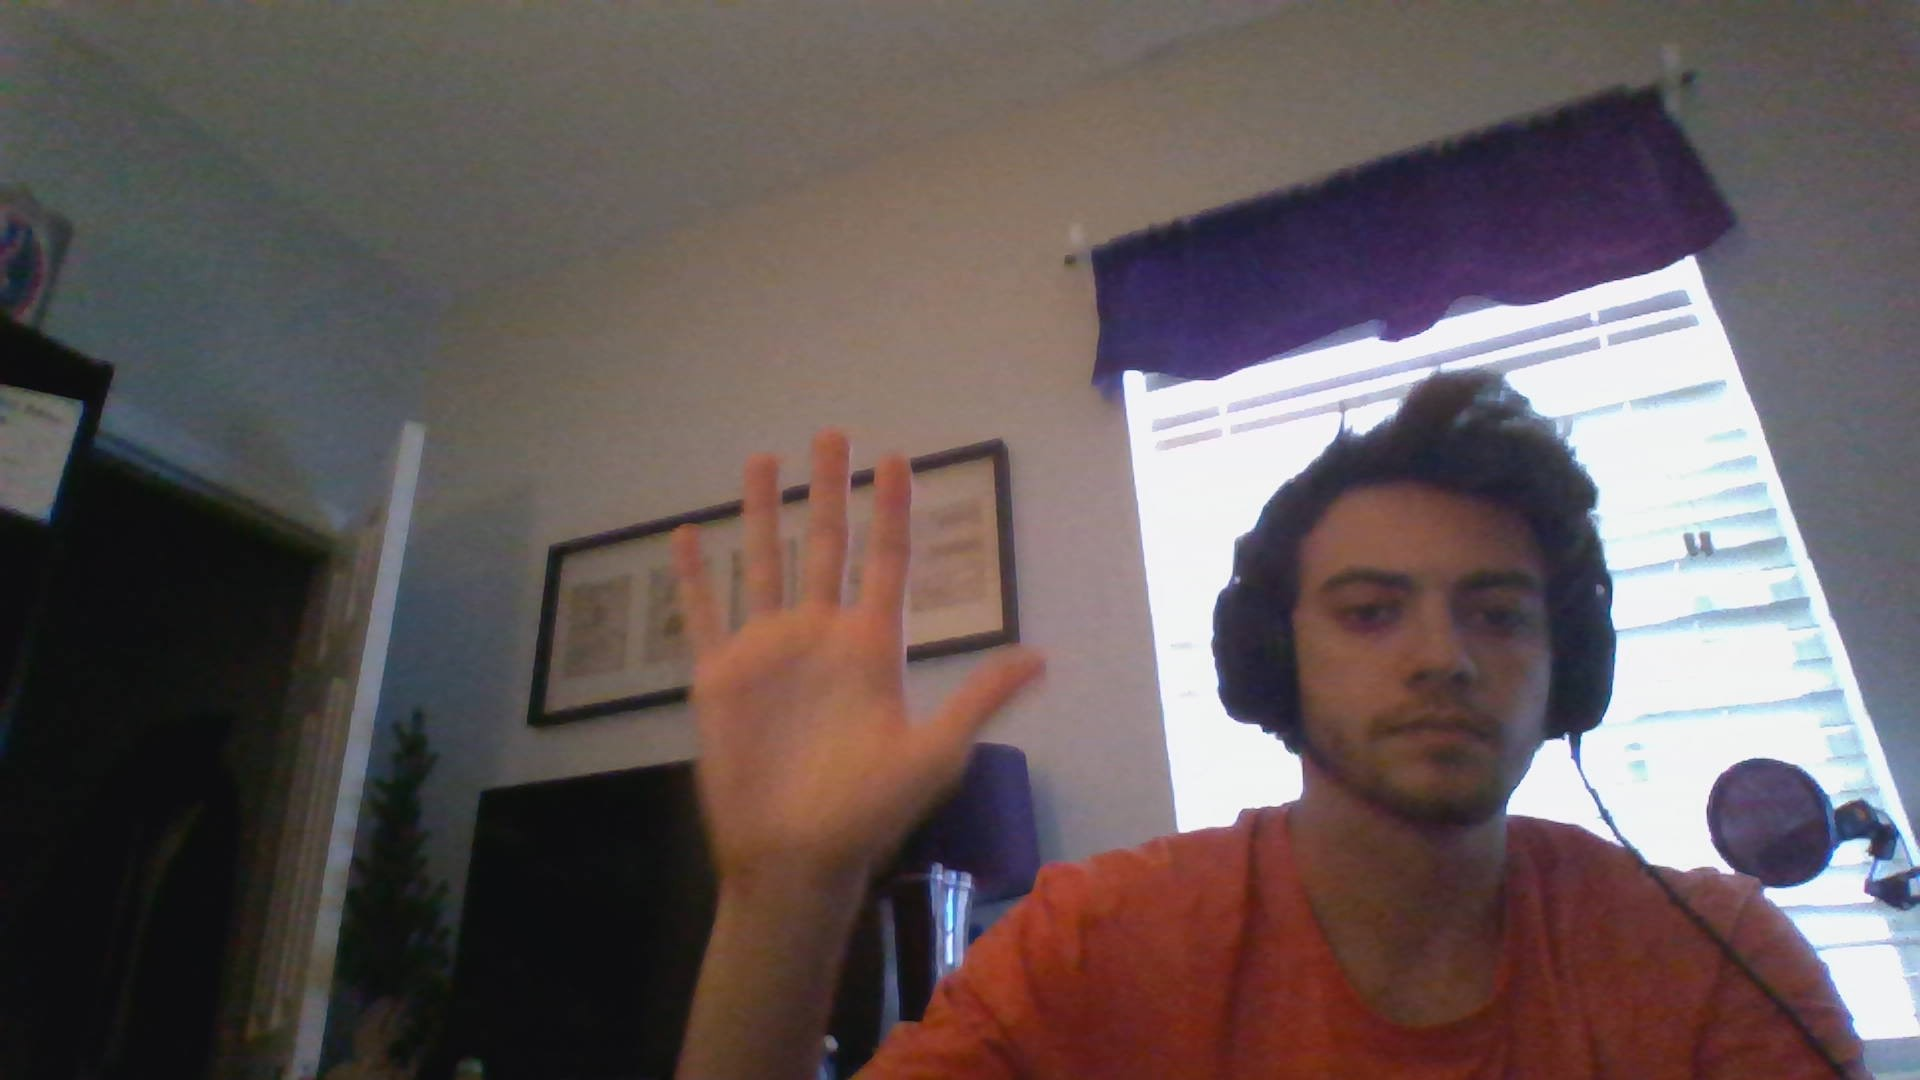Right Palm Up: (657, 426, 1054, 876)
